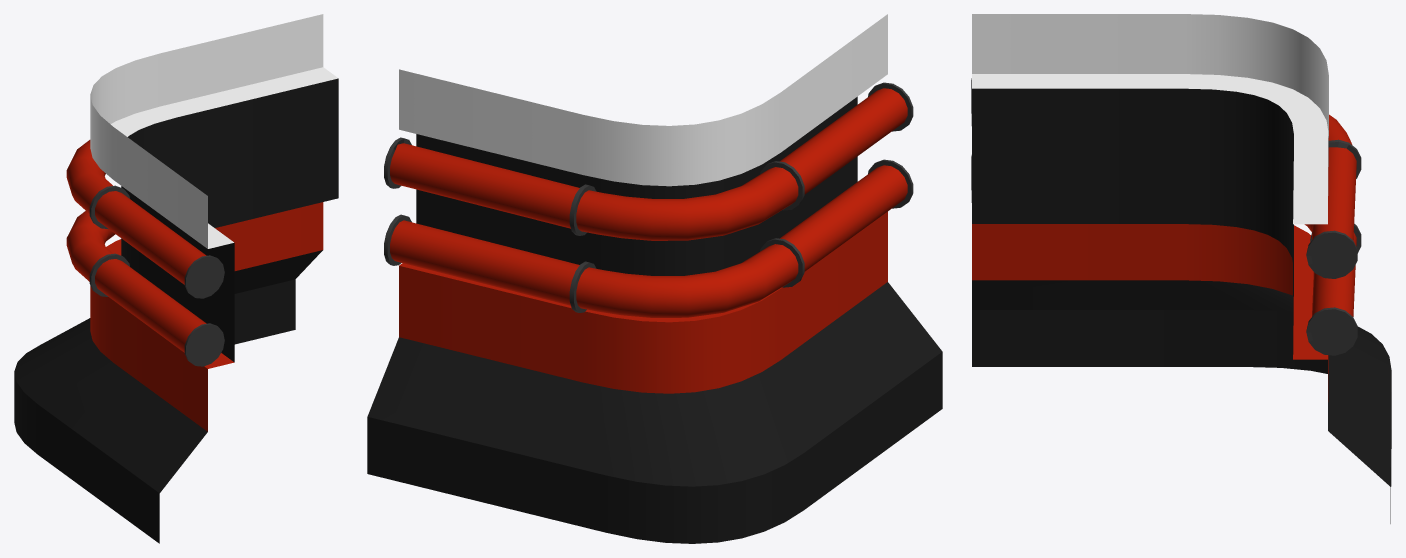
The model's file is S_assete__basement_wall_soft_outside_corner_2.FBX.
3 views of the same model, side by side, from view 1: azimuth 30°, elevation 25°; view 2: azimuth 150°, elevation 25°; view 3: azimuth 270°, elevation 25° (orthographic). The views are drawn at different scales.
Visible parts, largest first — view 1: S_basement_wall_soft_outside_corner_2; view 2: S_basement_wall_soft_outside_corner_2; view 3: S_basement_wall_soft_outside_corner_2.
Part boxes in pixels (x1,y1,x2,y2): S_basement_wall_soft_outside_corner_2: [14, 14, 338, 543]; S_basement_wall_soft_outside_corner_2: [367, 14, 942, 543]; S_basement_wall_soft_outside_corner_2: [971, 14, 1391, 523].
Size of the model in its own units: 200 by 200 by 201.
